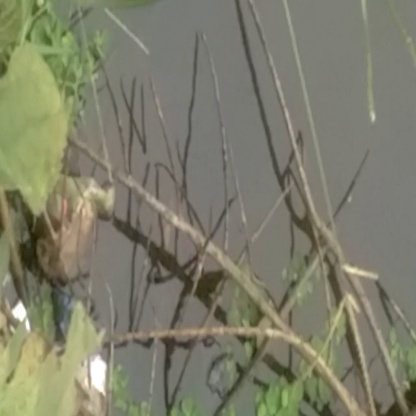branch: (137, 174, 367, 372)
